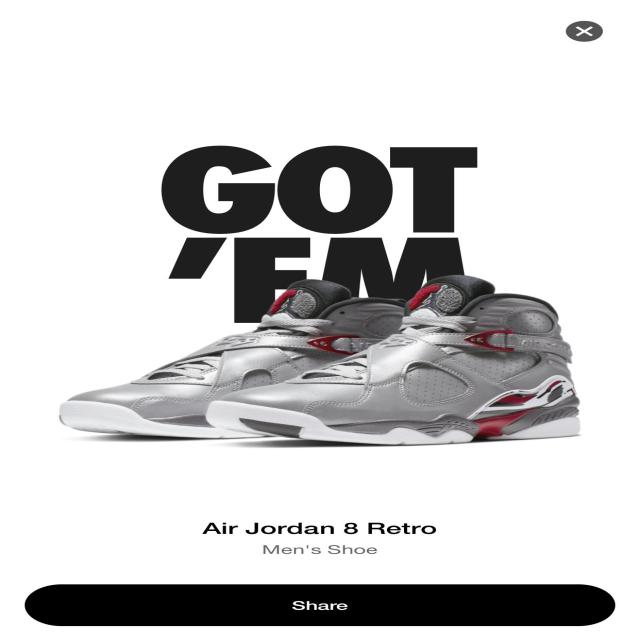shoe: (238, 284, 626, 454), (24, 274, 379, 449)
